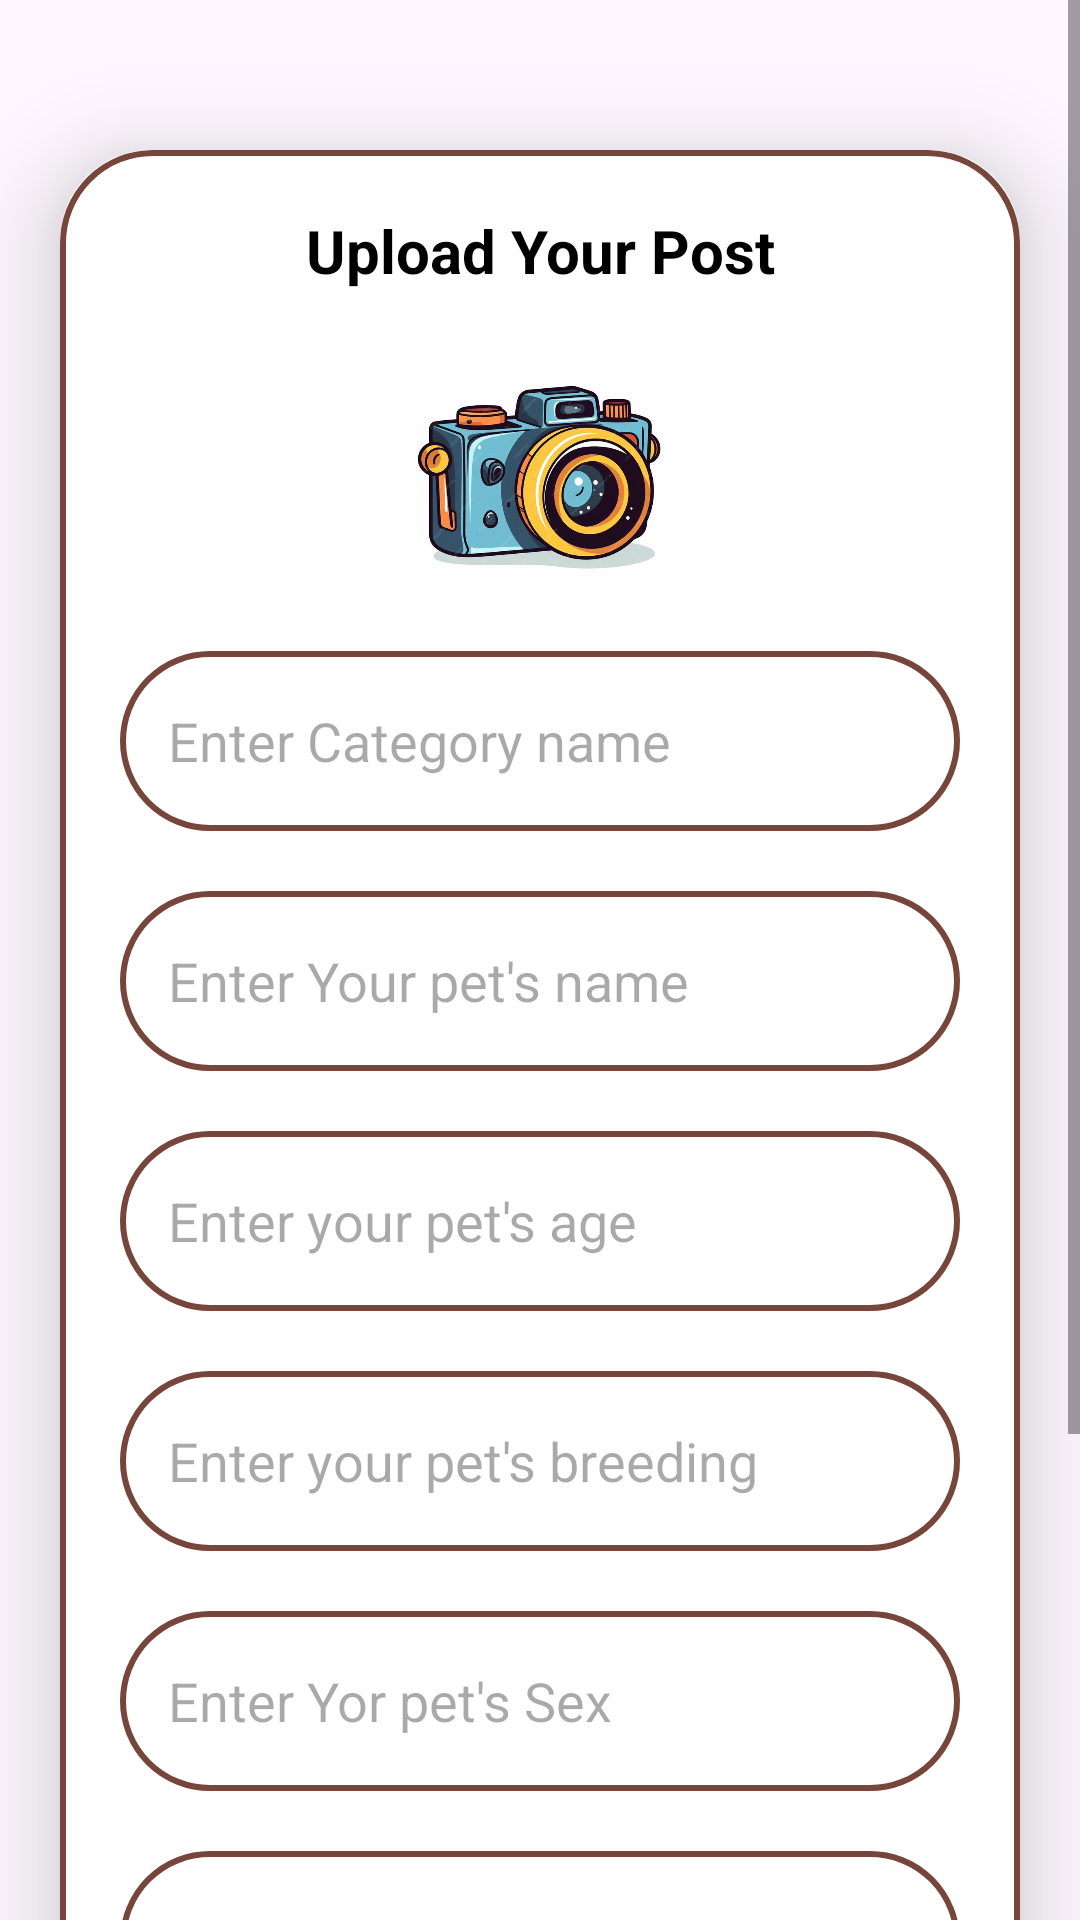

Screen size 1080px x 1920px. Icon name, then its box in pixels as (left=x1, top=y1, right=x2, bottom=y2):
camera: (left=418, top=386, right=661, bottom=569)
